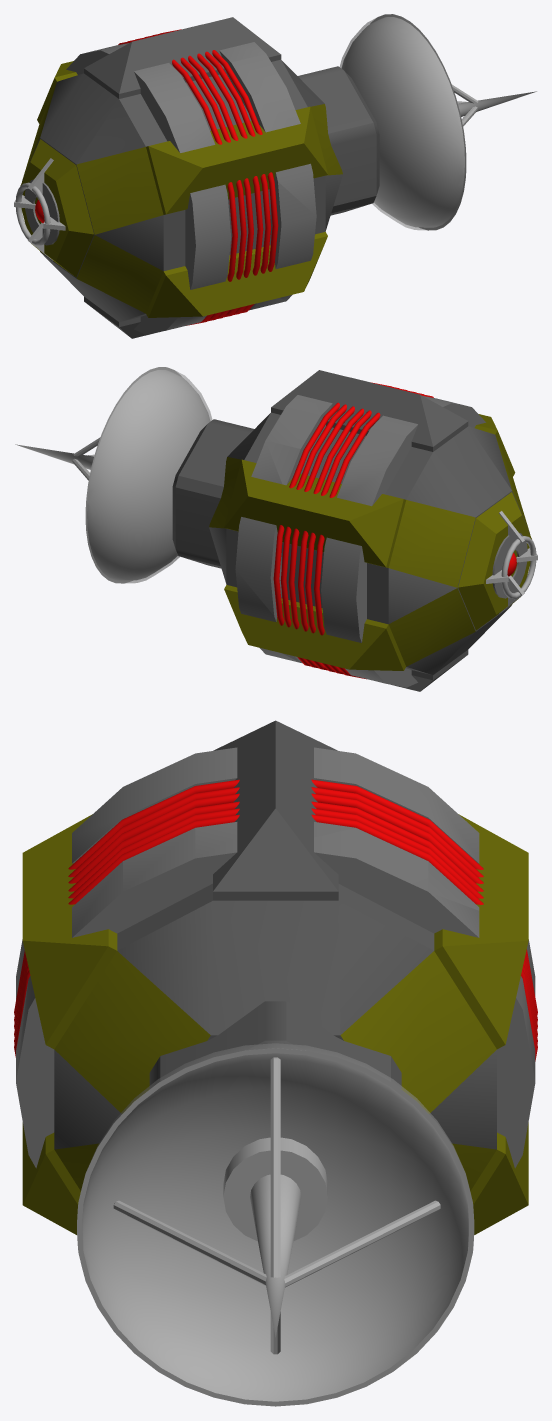
The model's file is Boss Core.fbx.
3 renders of one model, top to bottom at view 1: azimuth 30°, elevation 25°; view 2: azimuth 150°, elevation 25°; view 3: azimuth 270°, elevation 25°, orthographic. The views are drawn at different scales.
Visible parts, largest first — view 1: pasted__pCylinder3, pasted__pSphere4, pPipe1, pasted__pCylinder1, pTorus1, pTorus5, pTorus3, pTorus4, pTorus6, pTorus7, pPipe2, pTorus2 (+1 smaller); view 2: pasted__pCylinder3, pasted__pSphere4, pPipe1, pasted__pCylinder1, pTorus1, pTorus5, pTorus3, pTorus7, pTorus6, pTorus4, pPipe2, pTorus2 (+1 smaller); view 3: pasted__pCylinder3, pasted__pSphere4, pPipe1, pasted__pCylinder1, pasted__pCylinder2, pasted__pCone1, pTorus7, pTorus4, pTorus1, pTorus5, pTorus3, pTorus6 (+3 smaller).
Boxes of the visible parts, x1,y1,x2,y2 form: pasted__pCylinder3: (20,17,342,338); pasted__pSphere4: (339,14,466,230); pPipe1: (66,25,316,334); pasted__pCylinder1: (298,66,379,215); pTorus1: (118,39,237,325); pTorus5: (144,33,263,317); pTorus3: (128,37,246,321); pTorus4: (135,35,253,319); pTorus6: (152,31,271,314); pTorus7: (160,29,278,313); pPipe2: (24,179,59,245); pTorus2: (15,182,50,245); pasted__pCylinder3: (209,370,531,691); pasted__pSphere4: (85,367,212,583); pPipe1: (235,377,485,687); pasted__pCylinder1: (172,419,254,568); pTorus1: (314,392,433,679); pTorus5: (288,386,407,670); pTorus3: (305,390,423,674); pTorus7: (273,382,392,666); pTorus6: (280,384,399,668); pTorus4: (298,388,416,672); pPipe2: (492,533,527,598); pTorus2: (501,536,536,599); pasted__pCylinder3: (22,720,528,1234); pasted__pSphere4: (77,1043,474,1406); pPipe1: (16,747,535,1168); pasted__pCylinder1: (149,1001,401,1088); pasted__pCylinder2: (223,1137,327,1241); pasted__pCone1: (250,1174,301,1337); pTorus7: (14,814,537,1061); pTorus4: (14,793,537,1028); pTorus1: (14,779,537,1014); pTorus5: (14,801,537,1036); pTorus3: (14,787,537,1022); pTorus6: (14,808,537,1043).
Size of the model in its own units: 10.67 by 5.95 by 5.34.
